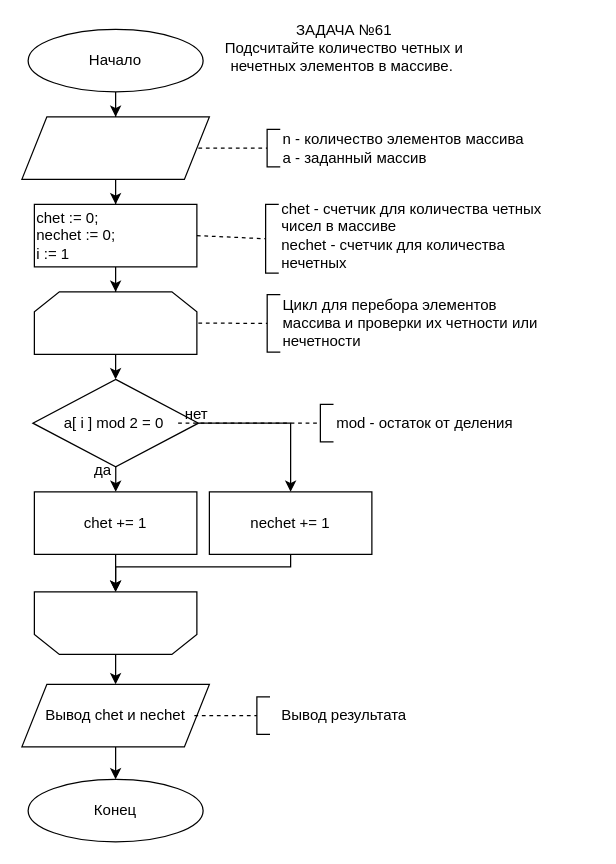
This 616x864 diagram has some shape labels left out. Here are the shapes that lost their labels. From the top down, the centre of each, then its label:
point (115, 147): Ввод n и массива a
point (115, 322): Цикл 1 i > n
point (115, 622): Цикл 1
